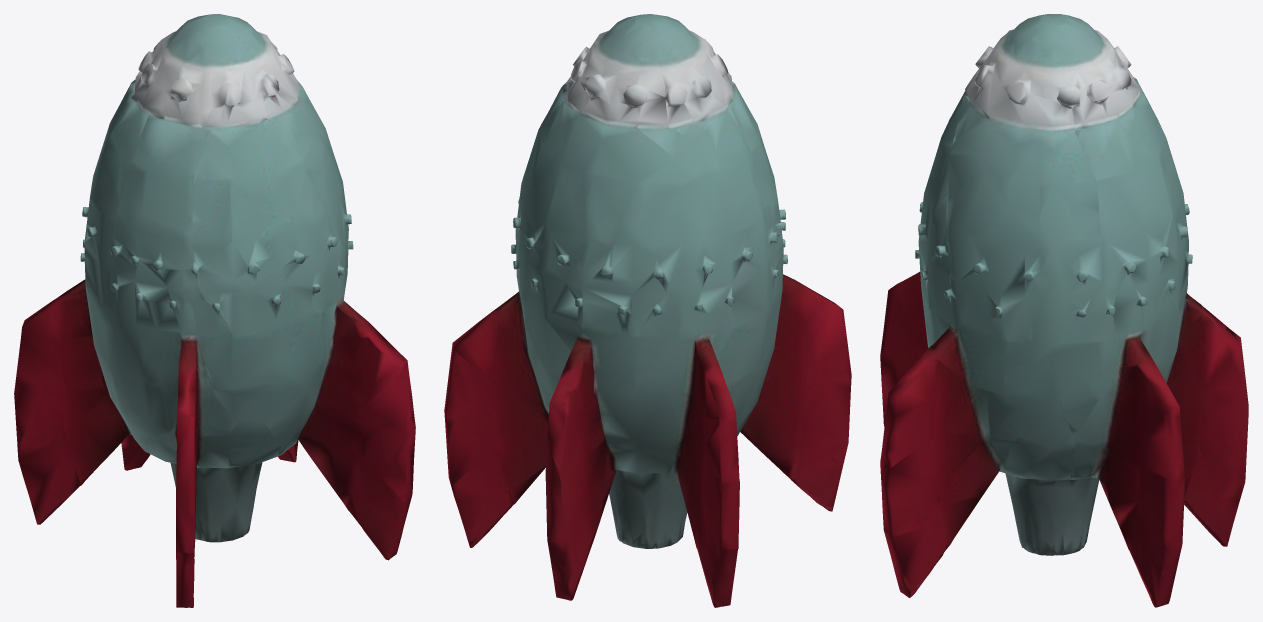
File: rocket.glb
The picture shows the model from 3 angles, left to right: view 1: azimuth 30°, elevation 25°; view 2: azimuth 150°, elevation 25°; view 3: azimuth 270°, elevation 25°; orthographic projection. The views are drawn at different scales.
Visible parts, largest first — view 1: prop; view 2: prop; view 3: prop.
Part boxes in pixels (bbox=[...]): prop: bbox=[14, 14, 415, 607]; prop: bbox=[444, 14, 851, 607]; prop: bbox=[880, 14, 1248, 607].
Bounding box in the file's own units: 0.5989 × 1 × 0.6382.
Materials: 1 (1 with a texture image).
